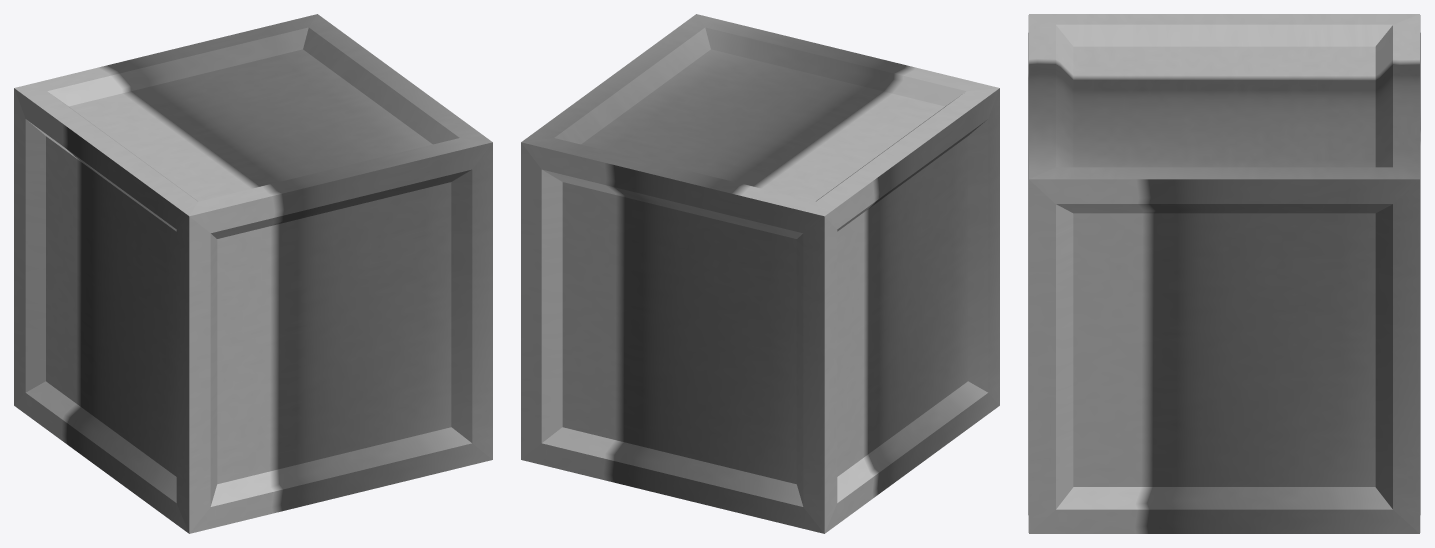
File: crateC.FBX
3 views of the same model, side by side, from view 1: azimuth 30°, elevation 25°; view 2: azimuth 150°, elevation 25°; view 3: azimuth 270°, elevation 25° (orthographic). The views are drawn at different scales.
Parts seen in each view (by area): view 1: crateC; view 2: crateC; view 3: crateC.
Part boxes in pixels (bbox=[...]): crateC: bbox=[14, 14, 492, 533]; crateC: bbox=[521, 14, 999, 533]; crateC: bbox=[1028, 14, 1420, 533].
Bounding box in the file's own units: 40.14 × 40.14 × 40.14.
